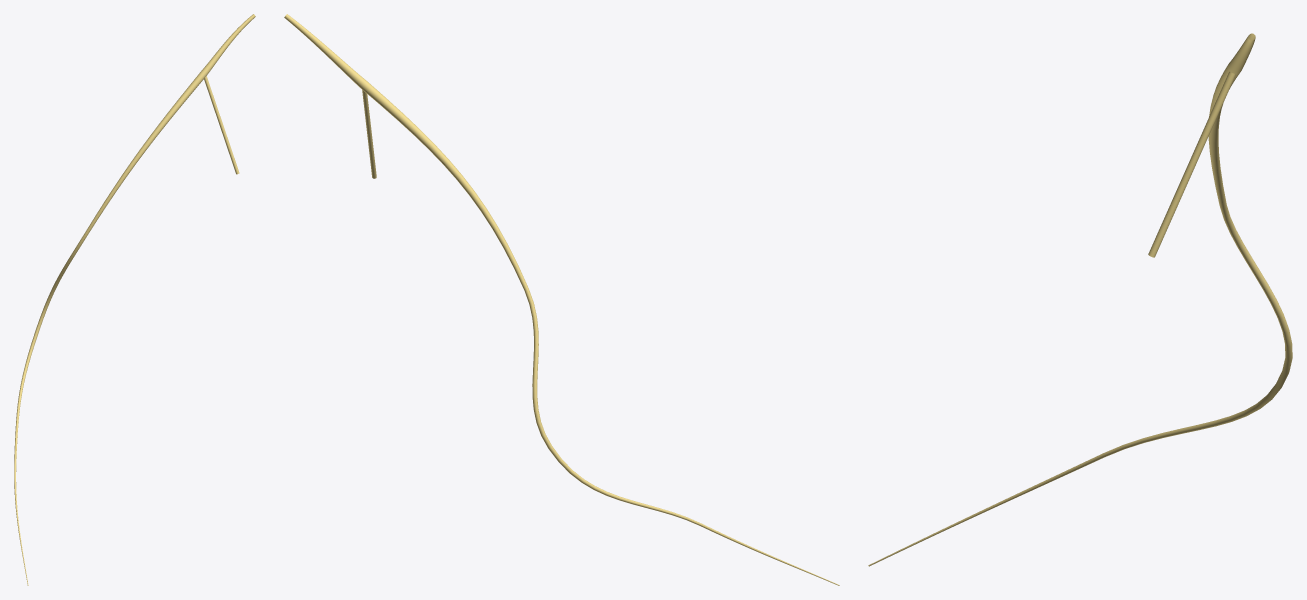
The picture shows the model from 3 angles, left to right: view 1: azimuth 30°, elevation 25°; view 2: azimuth 150°, elevation 25°; view 3: azimuth 270°, elevation 25°; orthographic projection. The views are drawn at different scales.
Parts seen in each view (by area): view 1: ZA_b102a1a72ed56a69; view 2: ZA_b102a1a72ed56a69; view 3: ZA_b102a1a72ed56a69.
Boxes of the visible parts, x1=… form: ZA_b102a1a72ed56a69: x1=14, y1=14, x2=255, y2=585; ZA_b102a1a72ed56a69: x1=284, y1=14, x2=839, y2=585; ZA_b102a1a72ed56a69: x1=868, y1=33, x2=1292, y2=566.
Size of the model in its own units: 0.1016 by 0.1272 by 0.0577.
